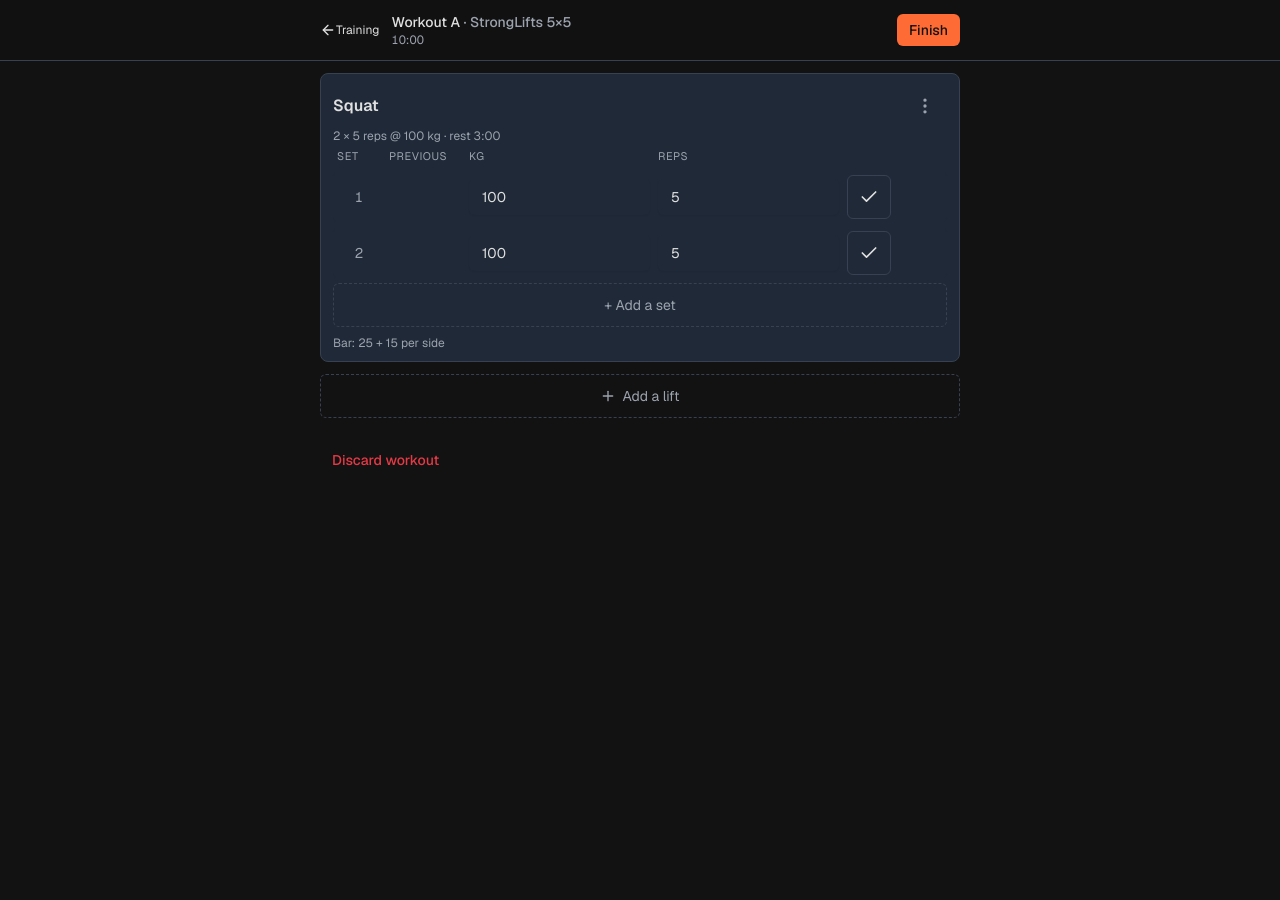
Test case: the rest clock › a refusal that arrives late does not wipe the rest a later set started
What coordinates should you click on to do the following:
click the button with test id "tick-1"
I would click on:
 (869, 196)
Its box is [847,174,891,218].
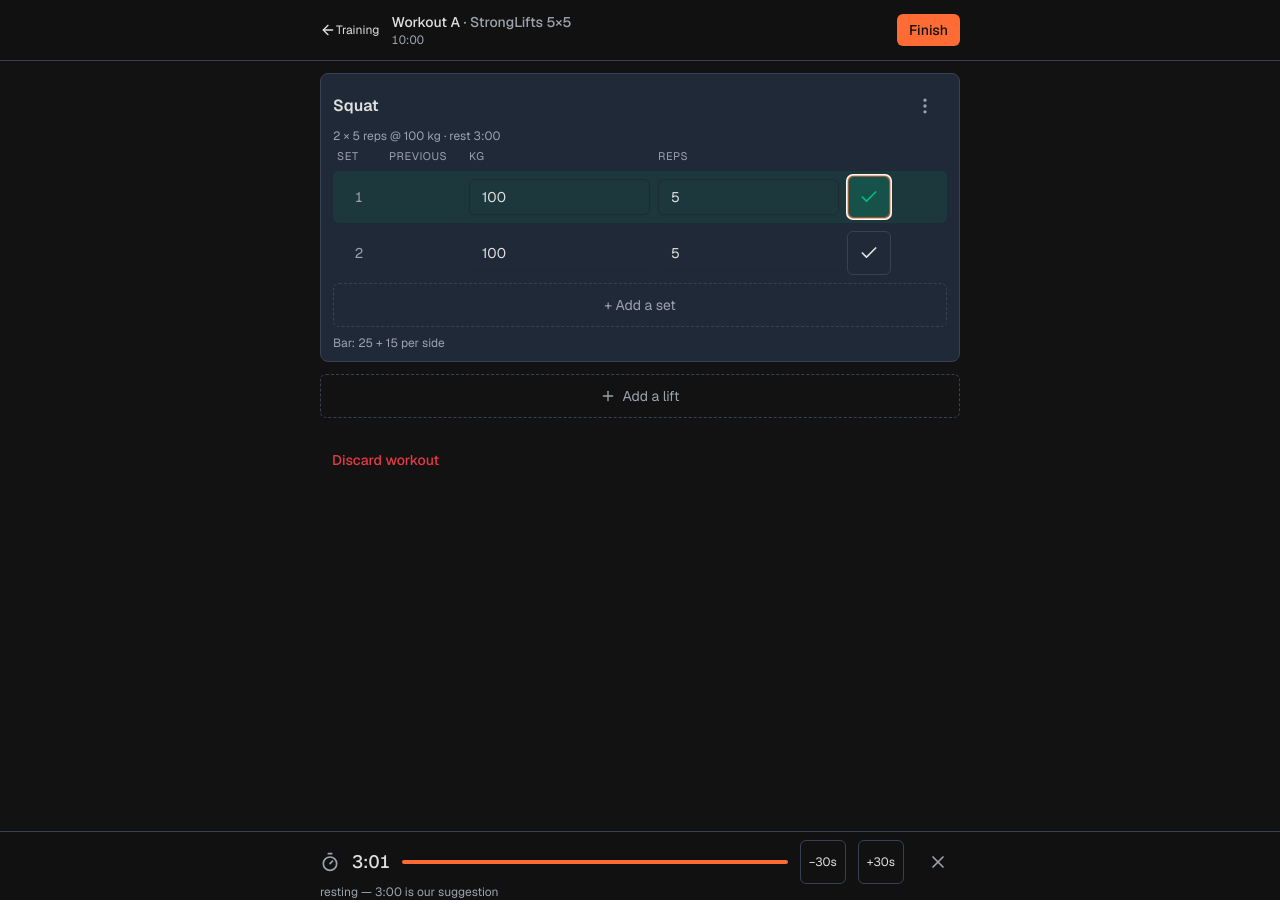
What coordinates should you click on to do the following:
click the button with test id "tick-2"
I would click on:
 (869, 252)
Its box is [847,230,891,274].
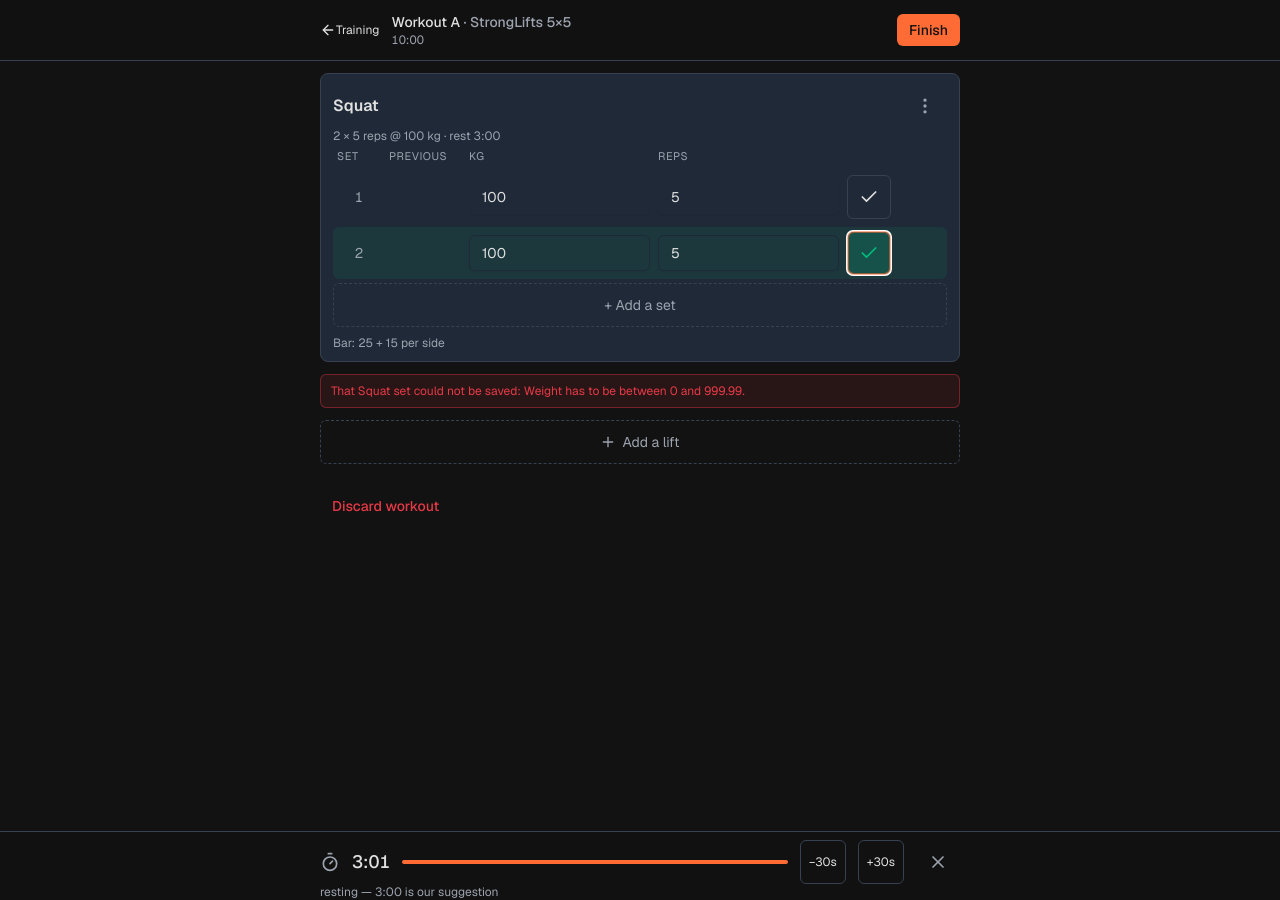
Now the message "3:01 −30s +30s resting — 3:00 is our suggestion" is shown, box [0,831,1279,899]
Now the message "That Squat set could not be saved: Weight has to be between 0 and 999.99." is shown, box [320,374,960,408]
